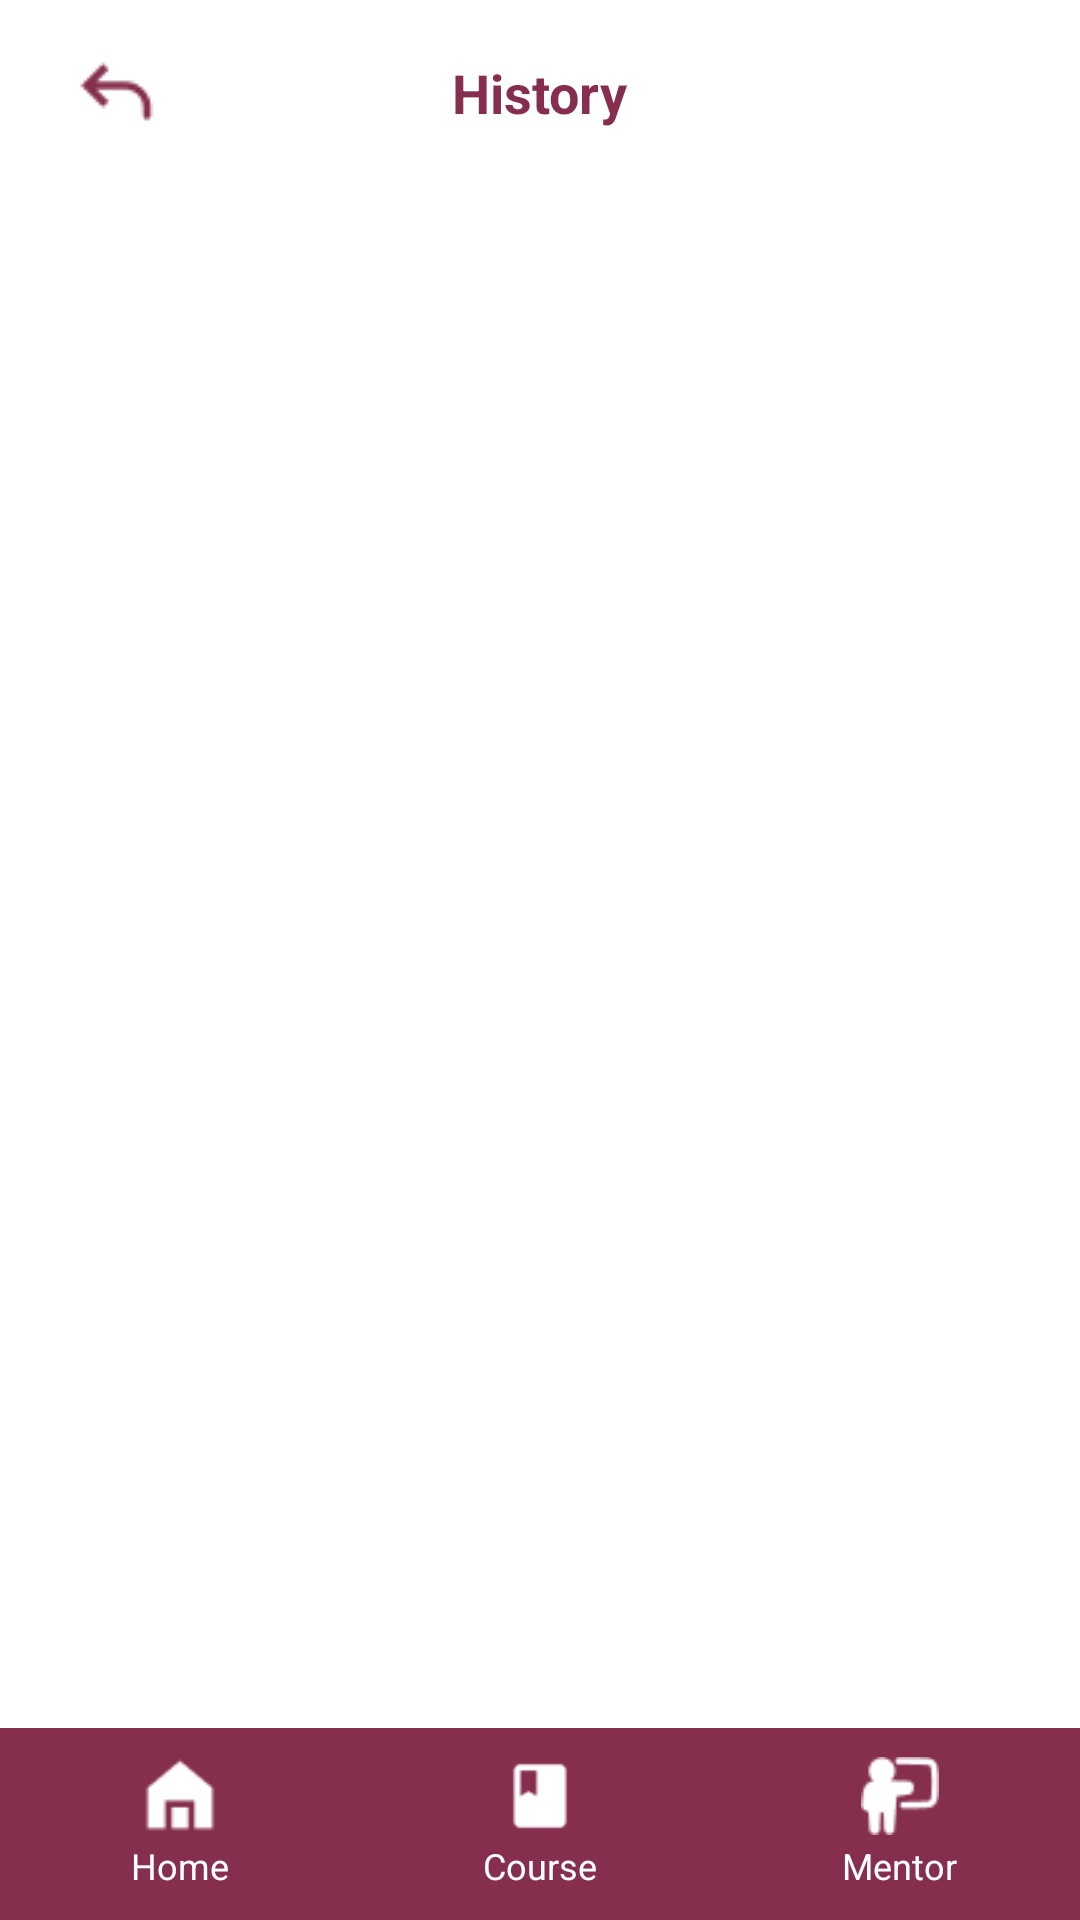

Screen size 1080px×1920px. Icon name, then its box in pixels as (x1, y1, x2, y2):
back: (80, 62, 153, 121)
